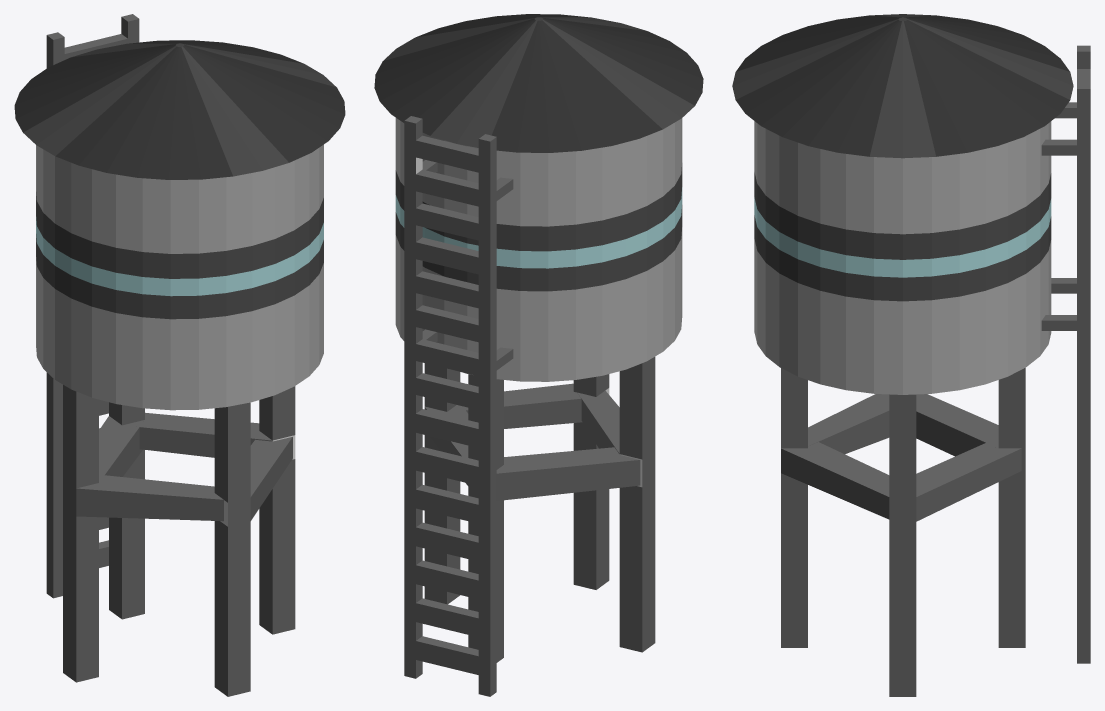
File: MONEYUwatertank (1).fbx
3 renders of one model, left to right at view 1: azimuth 30°, elevation 25°; view 2: azimuth 150°, elevation 25°; view 3: azimuth 270°, elevation 25°, orthographic. The views are drawn at different scales.
Visible parts, largest first — view 1: Cube; view 2: Cube; view 3: Cube.
Part boxes in pixels (box(x1,y1,x2,y2)): Cube: box(14, 14, 345, 696); Cube: box(374, 14, 703, 696); Cube: box(732, 14, 1090, 696).
Size of the model in its own units: 1903 by 3833 by 1998.
